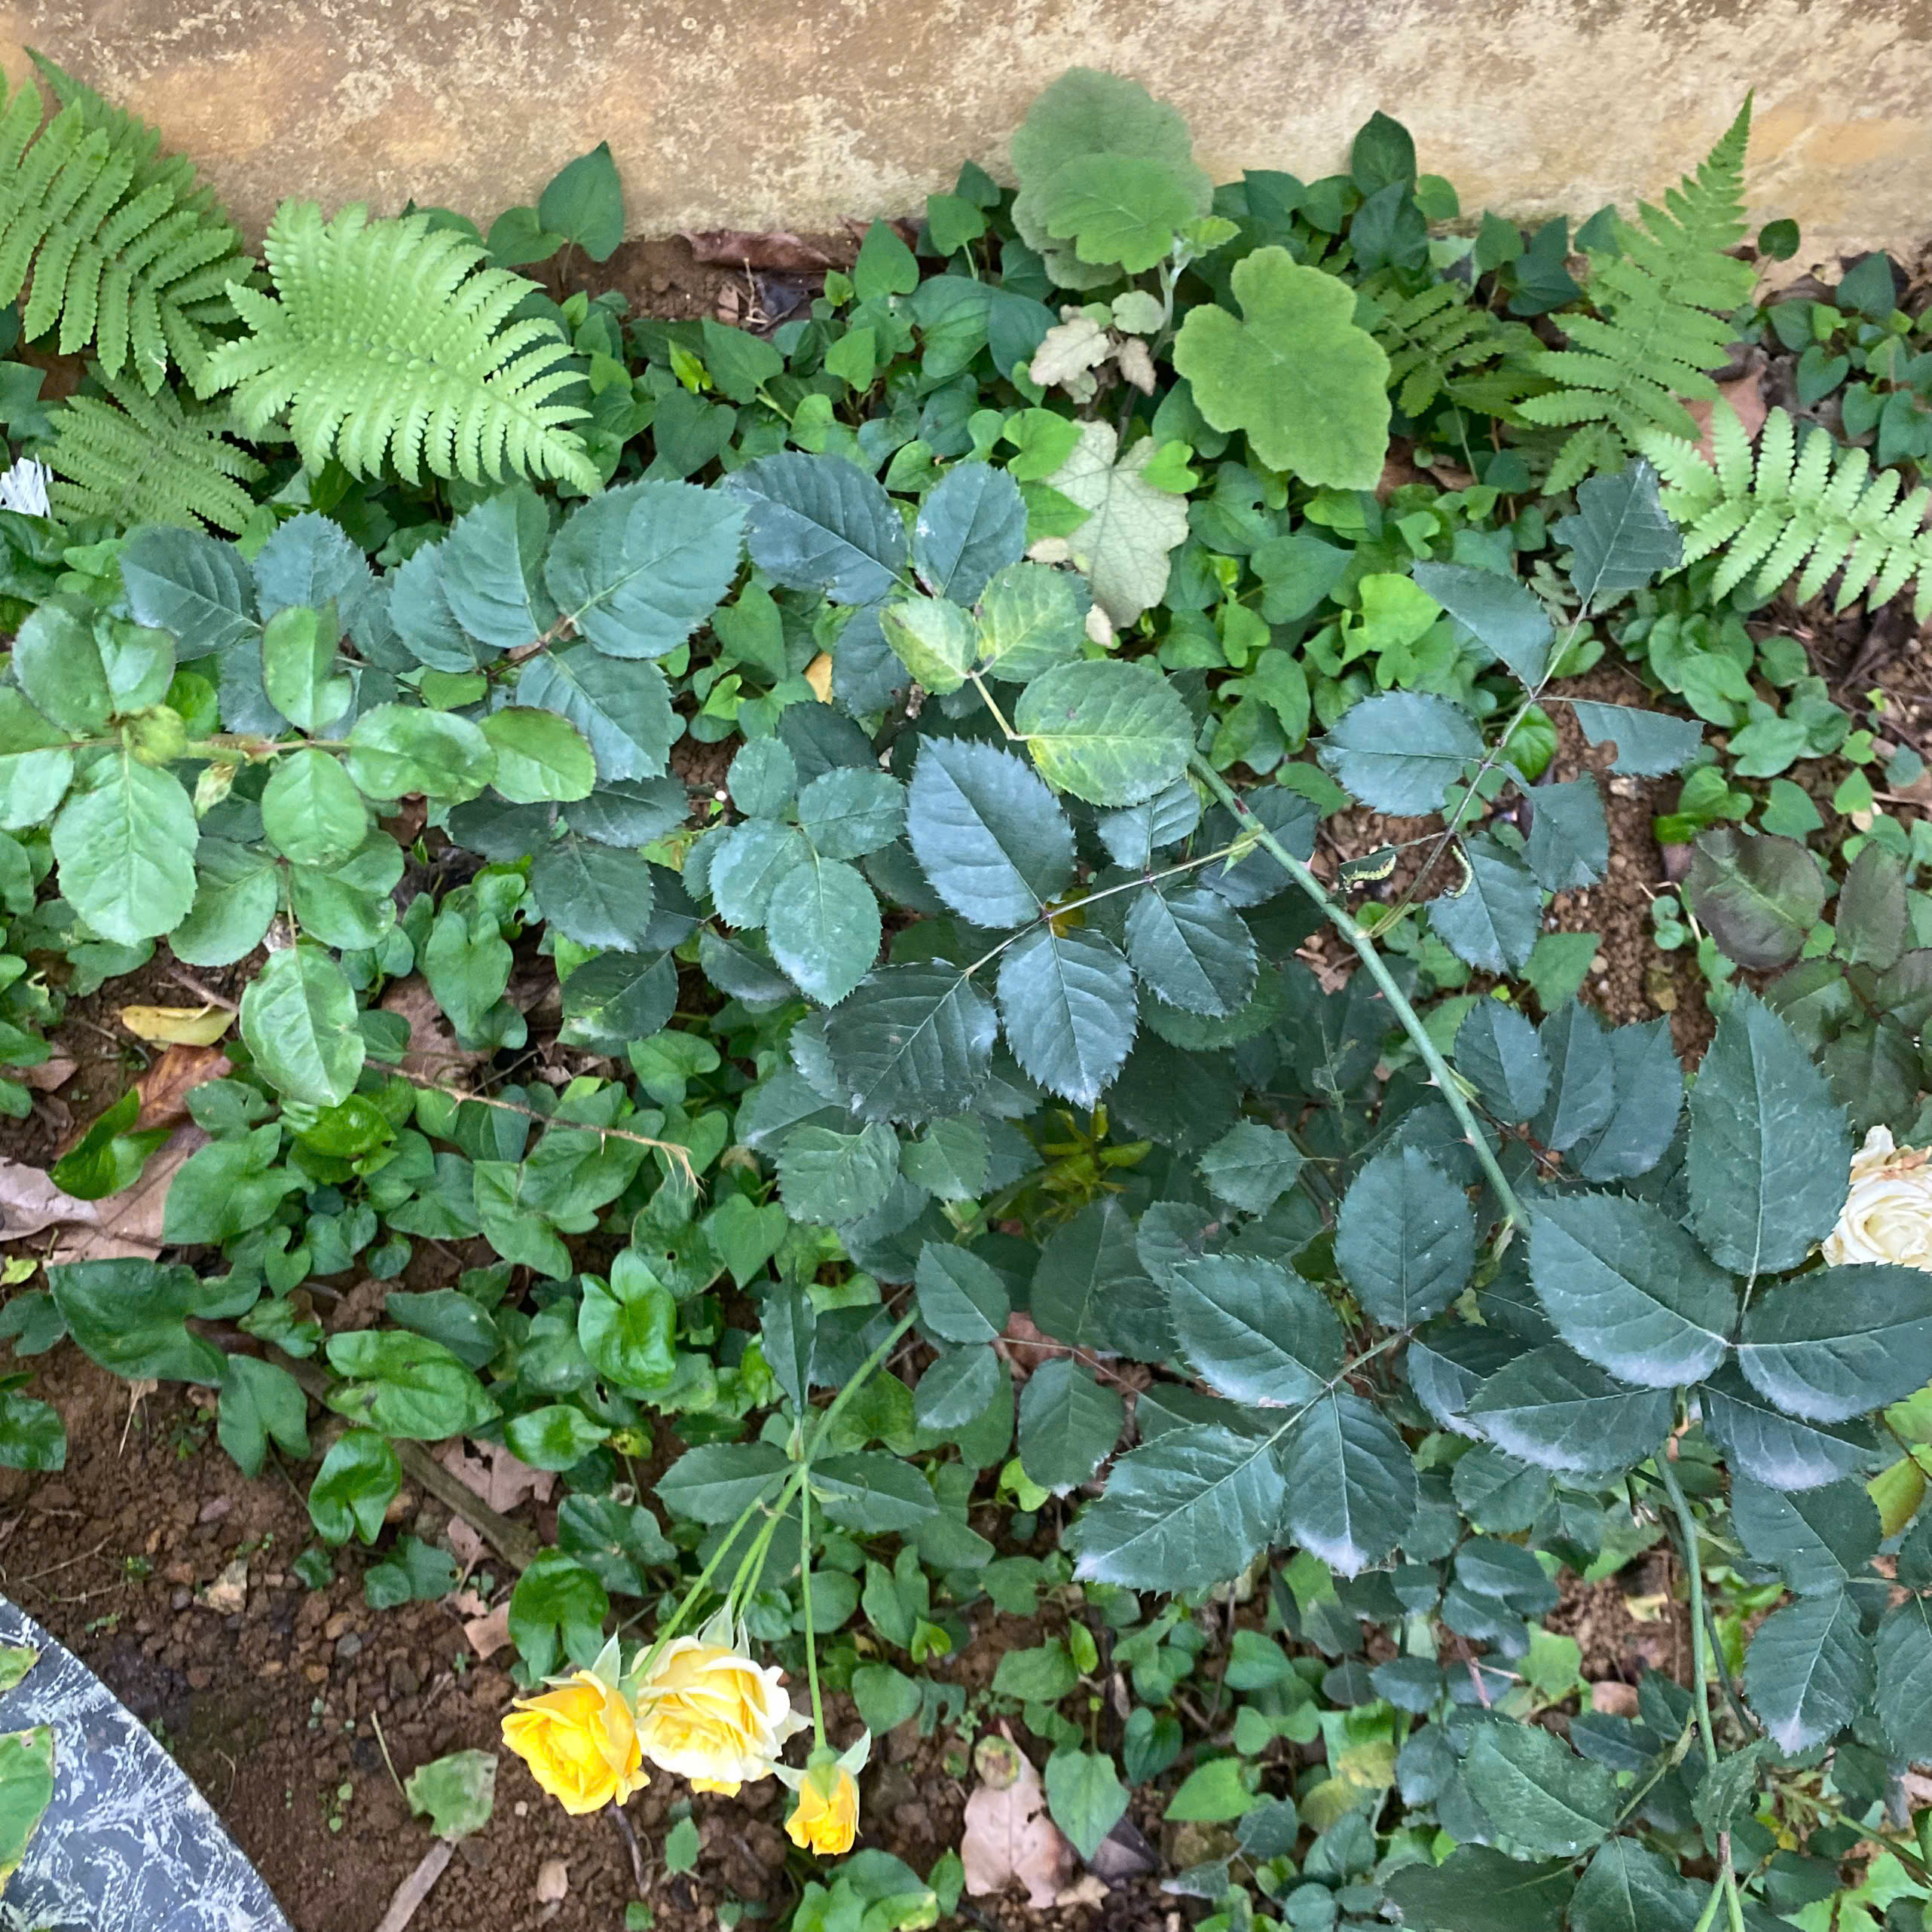hoa_thuoc_duoc: (85, 458, 1932, 1902)
